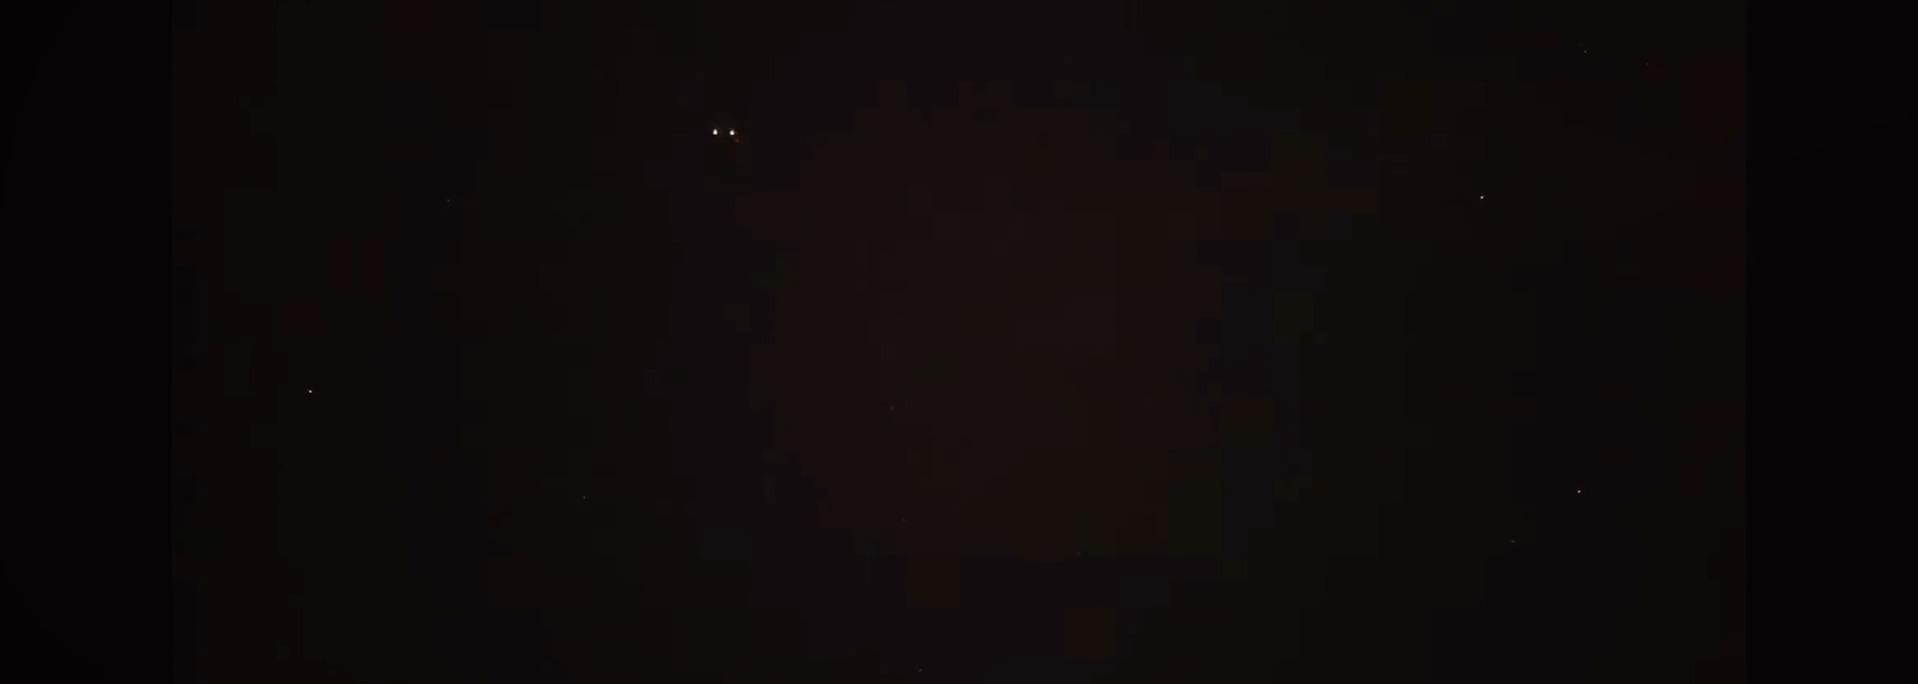Plane: (683, 115, 769, 154)
